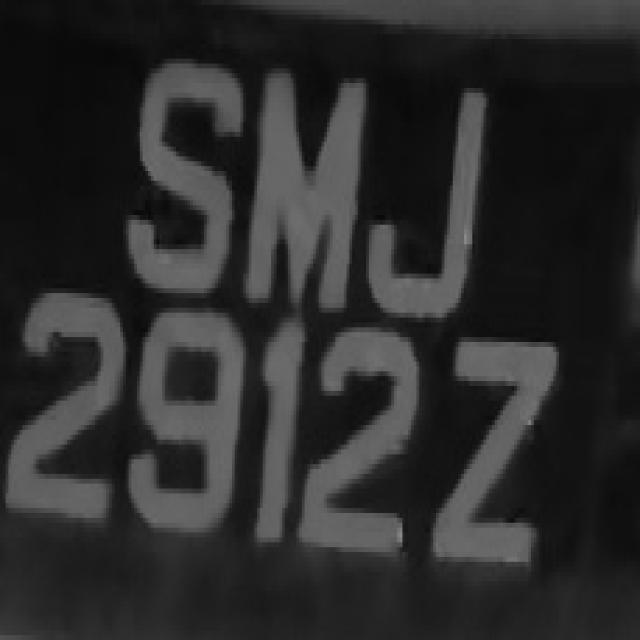1: (249, 303, 299, 567)
2: (294, 293, 419, 557), (12, 278, 132, 542)
9: (128, 284, 252, 542)
J: (361, 64, 503, 332)
M: (235, 59, 366, 322)
S: (126, 39, 232, 308)
Z: (436, 293, 556, 591)
